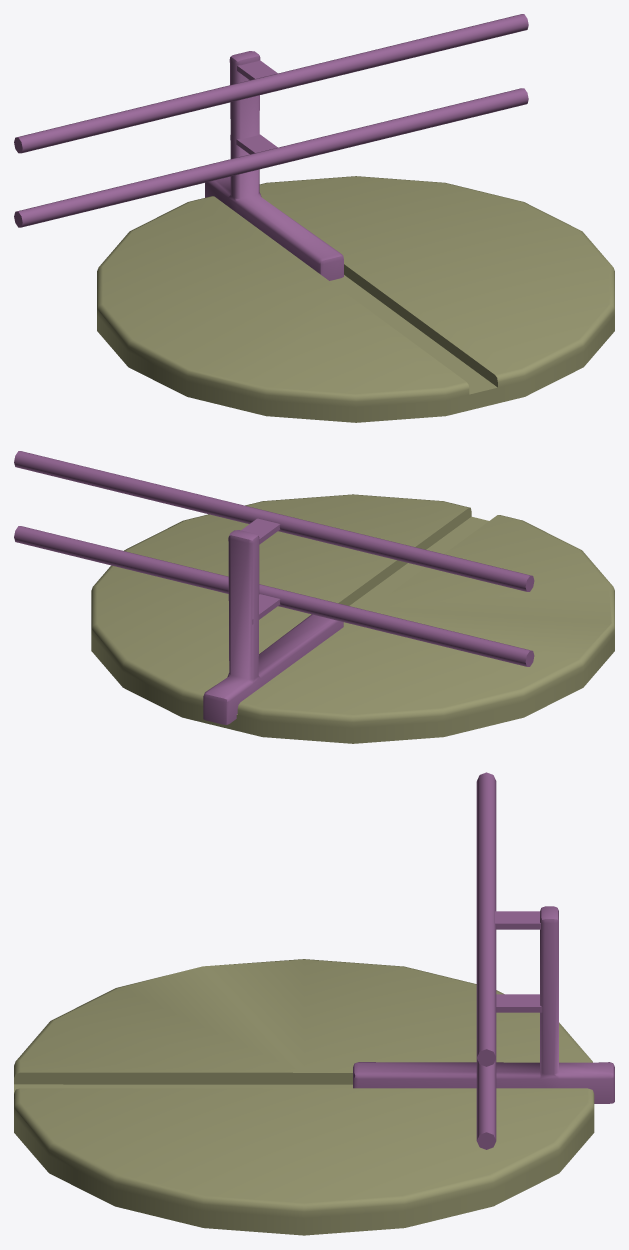
Rendered from Rails_Corner.FBX.
3 renders of one model, top to bottom at view 1: azimuth 30°, elevation 25°; view 2: azimuth 150°, elevation 25°; view 3: azimuth 270°, elevation 25°, orthographic. The views are drawn at different scales.
Parts seen in each view (by area): view 1: Disk, RailsTurning; view 2: Disk, RailsTurning; view 3: Disk, RailsTurning.
Part boxes in pixels (x1,y1,x2,y2): Disk: [97, 176, 614, 422]; RailsTurning: [14, 14, 528, 280]; Disk: [91, 494, 614, 743]; RailsTurning: [14, 451, 534, 724]; Disk: [14, 959, 594, 1235]; RailsTurning: [353, 772, 614, 1149].
Bounding box in the file's own units: 100 × 33.48 × 91.79.
